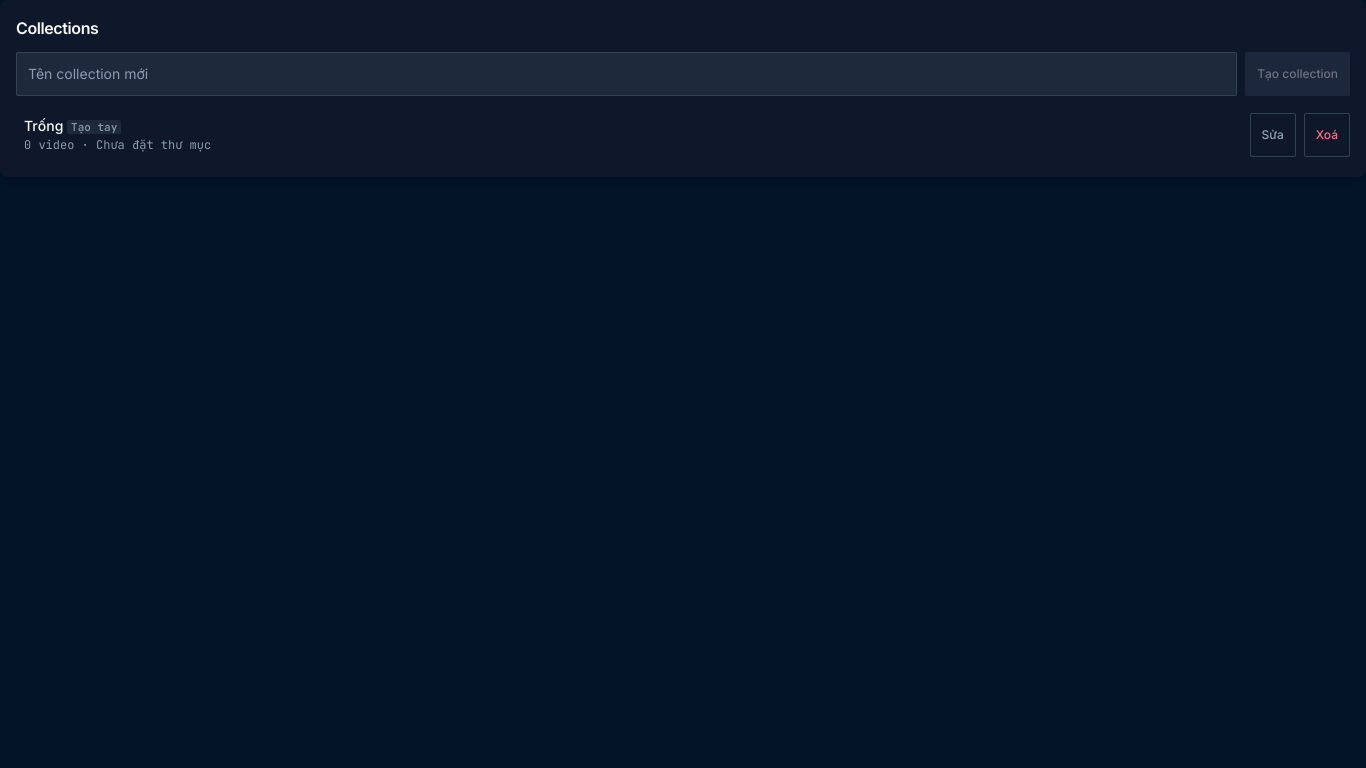
Test: CollectionsPanel delete › shows why the server refused
Click the button with aria-label "Xoá Trống": (1327, 134) [1304,112,1350,156]
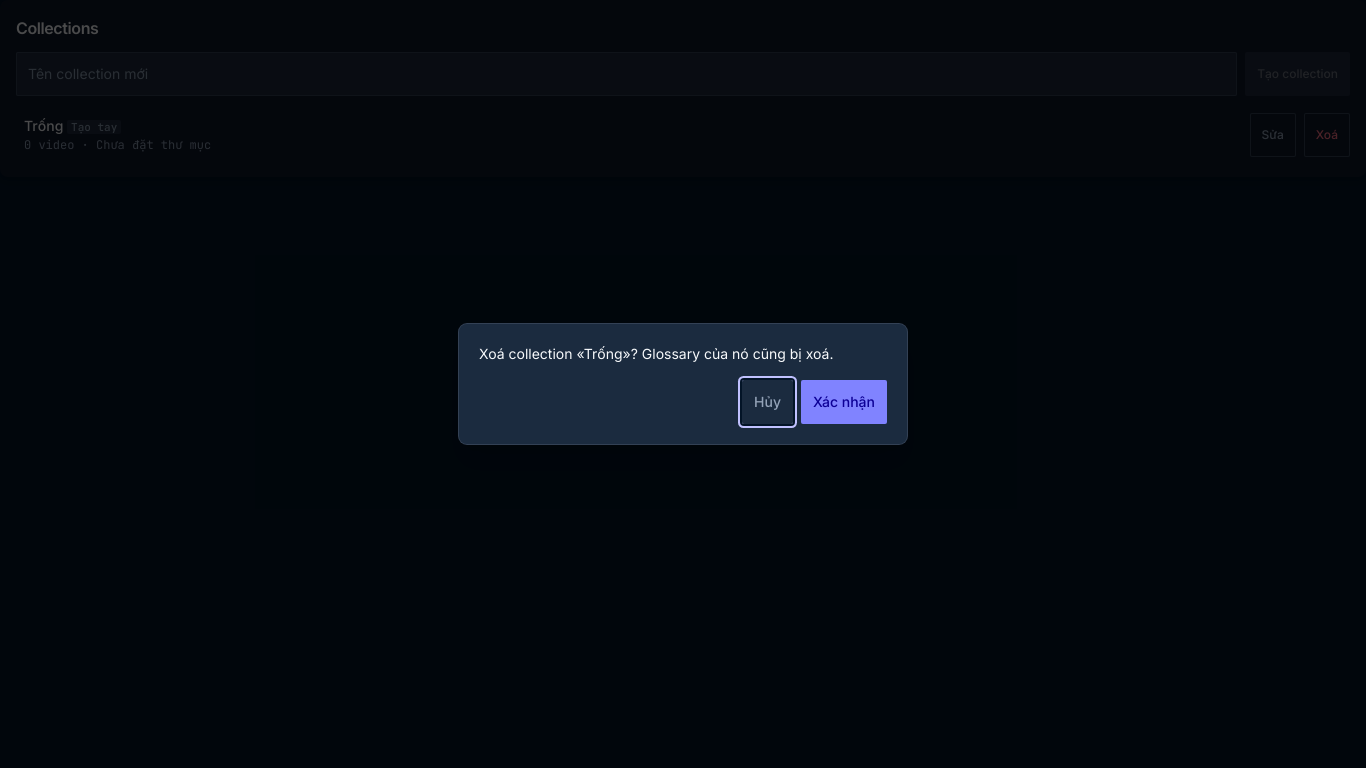
Click the button "Xác nhận": (844, 402) [801,380,887,424]
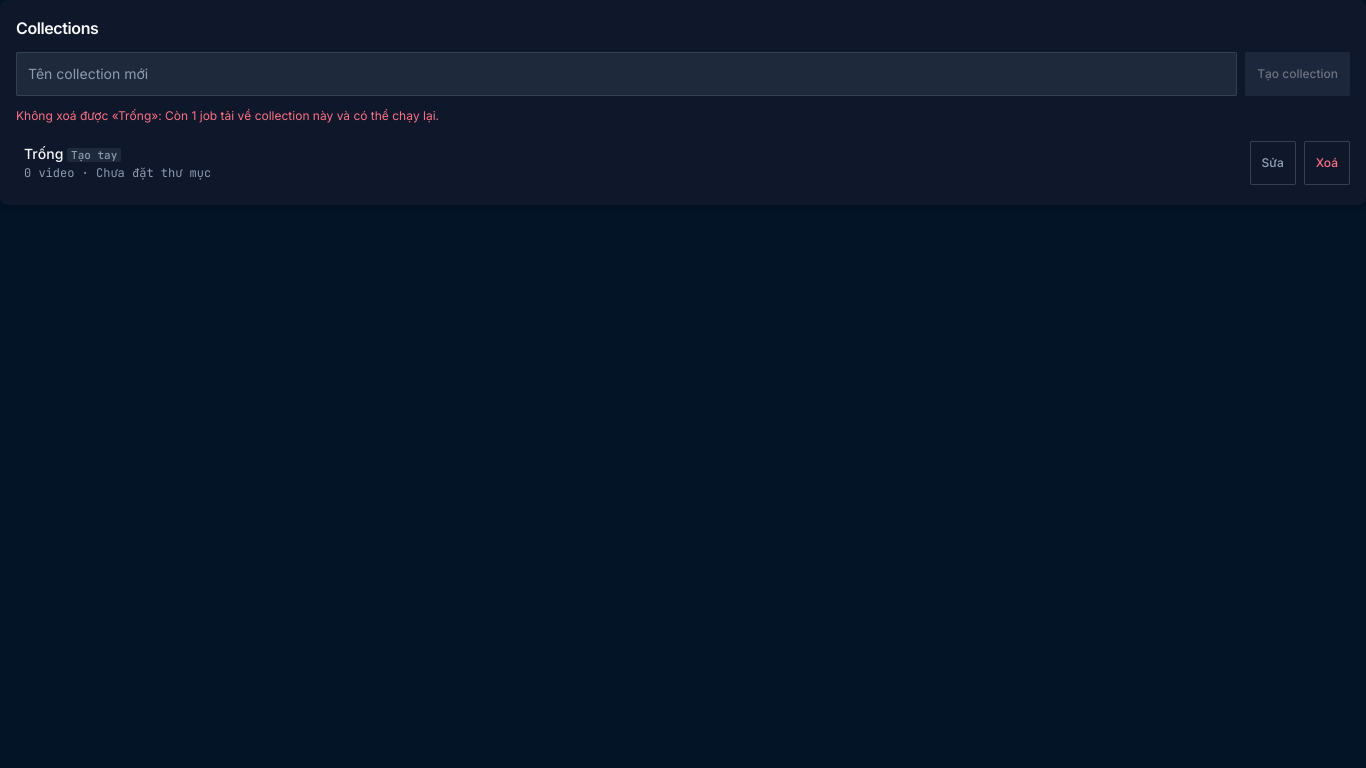
Check: the message shows "Không xoá được «Trống»: Còn 1 job", box [16,108,439,123]
